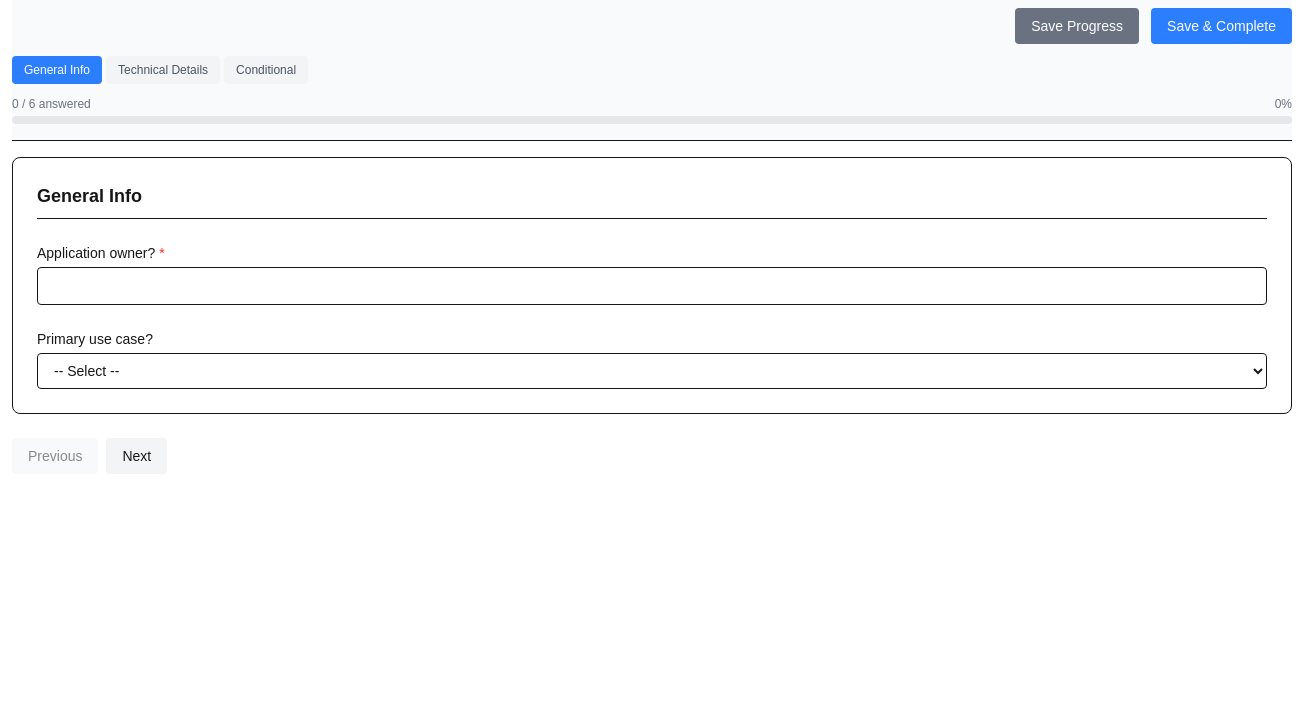
Test case: AppQuestionsForm › switches sections on tab click
What coordinates should you click on to do the following:
click the button "Technical Details"
I would click on:
 (163, 70)
Its box is [106,56,220,84].
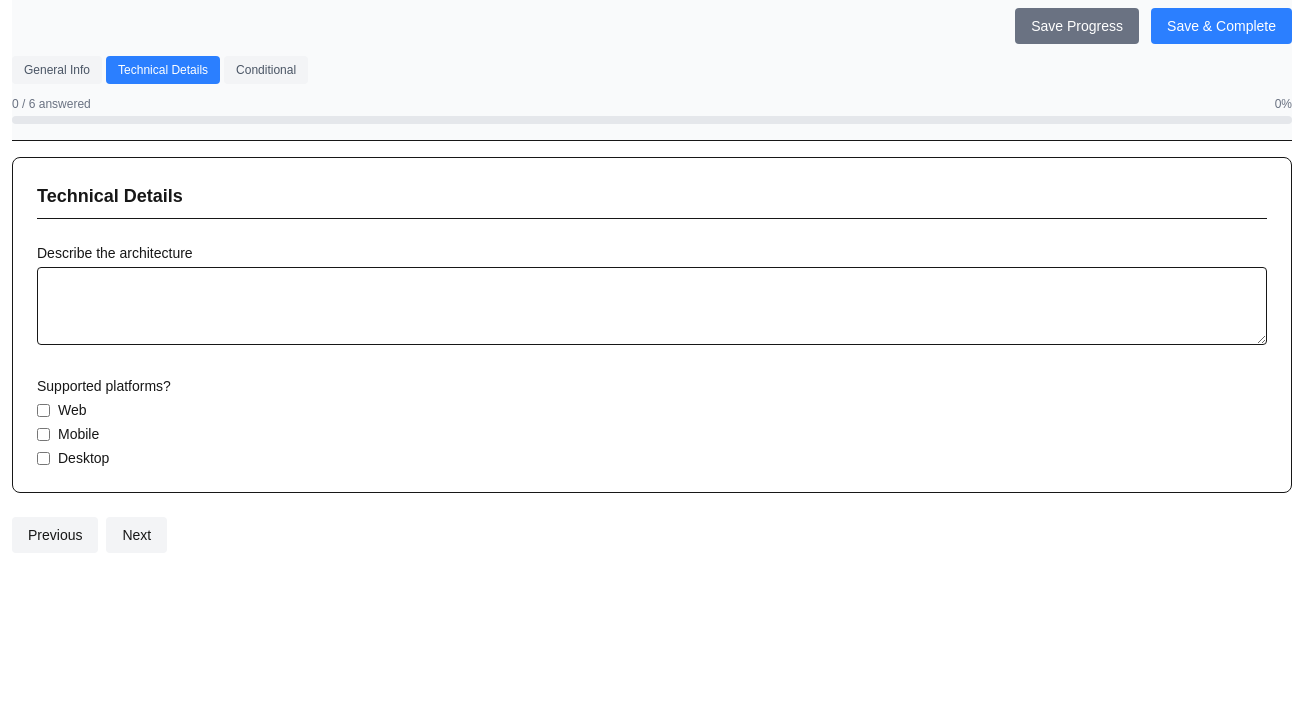
Result: the text "Describe the architecture" is shown at [37,245,193,261]
Result: the text "Supported platforms?" is shown at [37,378,171,394]
Result: the text "Application owner?" is gone
